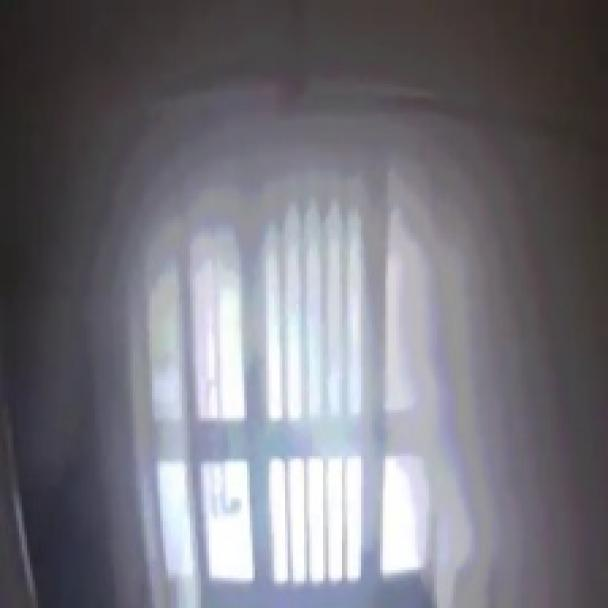smoke: (123, 86, 550, 492)
